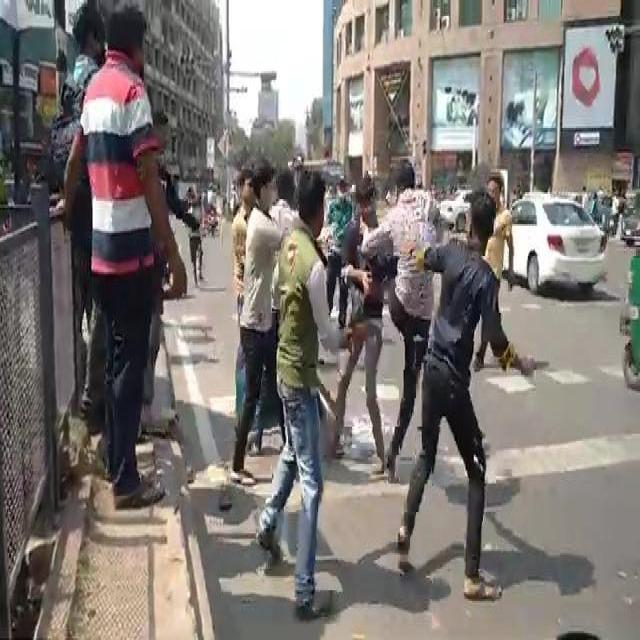fight: (219, 108, 506, 612), (49, 0, 184, 537)
